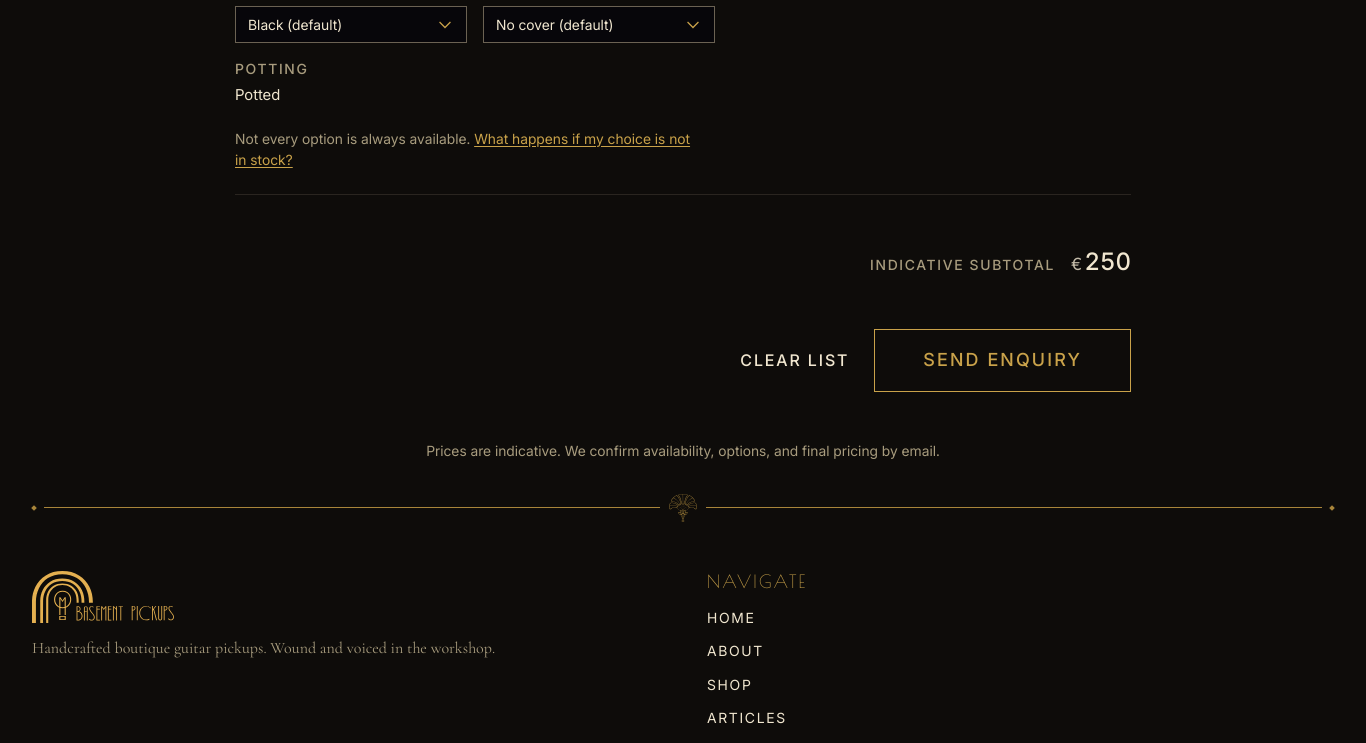
Test: CartPage › sends the enquiry to the contact page with the live cart
(page scrolled)
Click the button with test id "cart-send-enquiry".
click(1003, 360)  # box [874,329,1131,392]
(page scrolled)
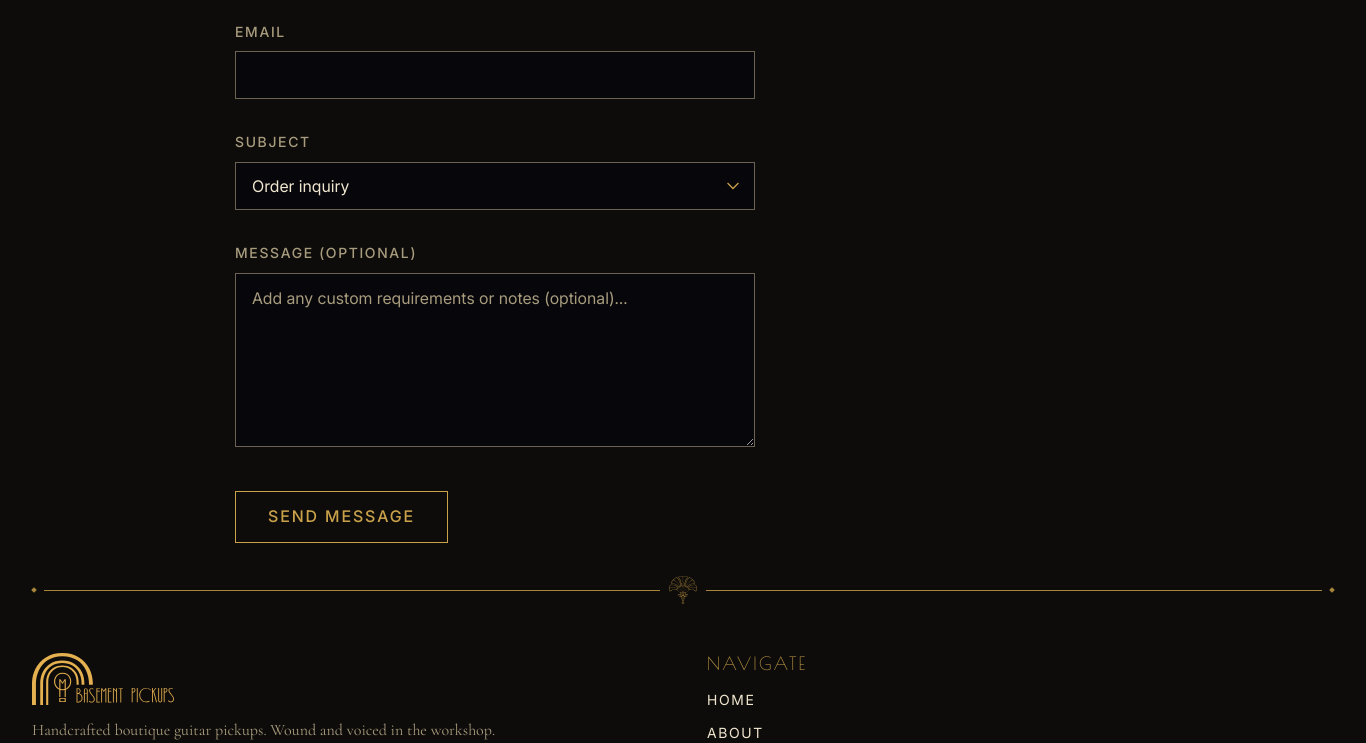
Now the dropdown with test id "contact-form-subject-select" shows "Order inquiry", box [235,162,755,210]
